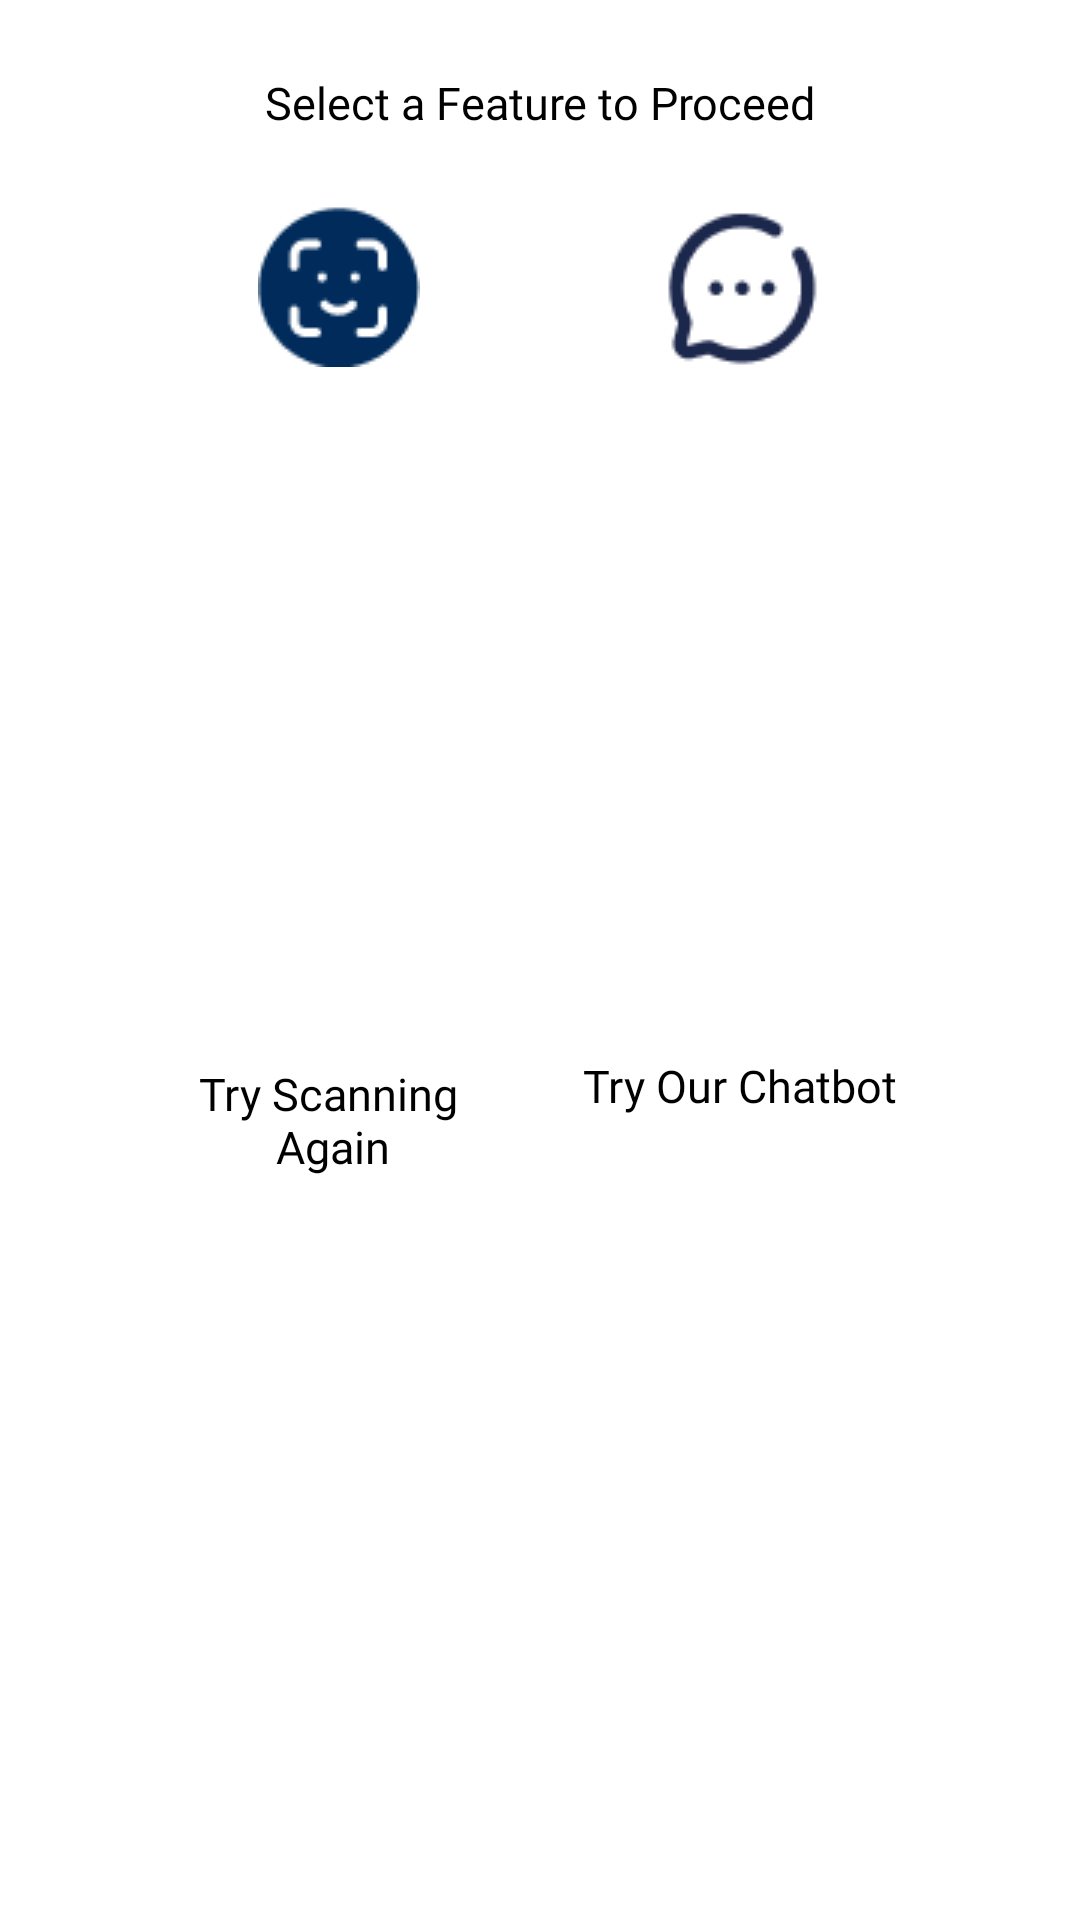

Screen size 1080w x 1920h. Icon name, then its box in pixels as box(x1, y1, x2, y2):
chabot scan: box(668, 213, 817, 365)
scan result: box(258, 207, 420, 367)
